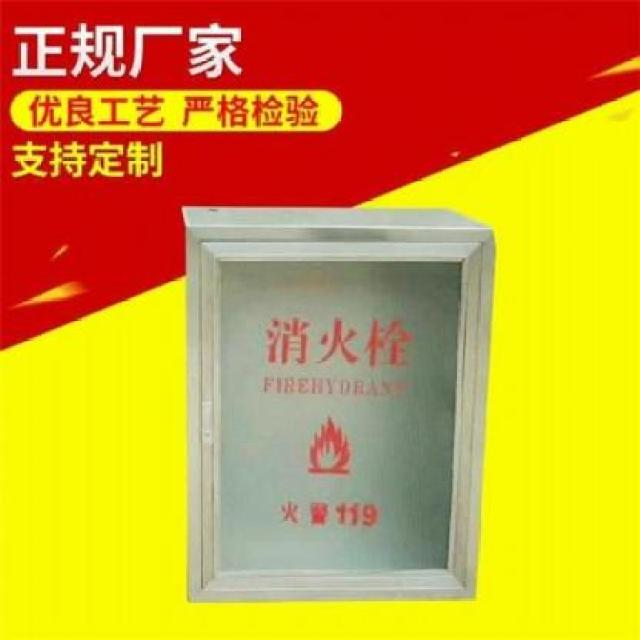firehydrant: (177, 202, 503, 608)
